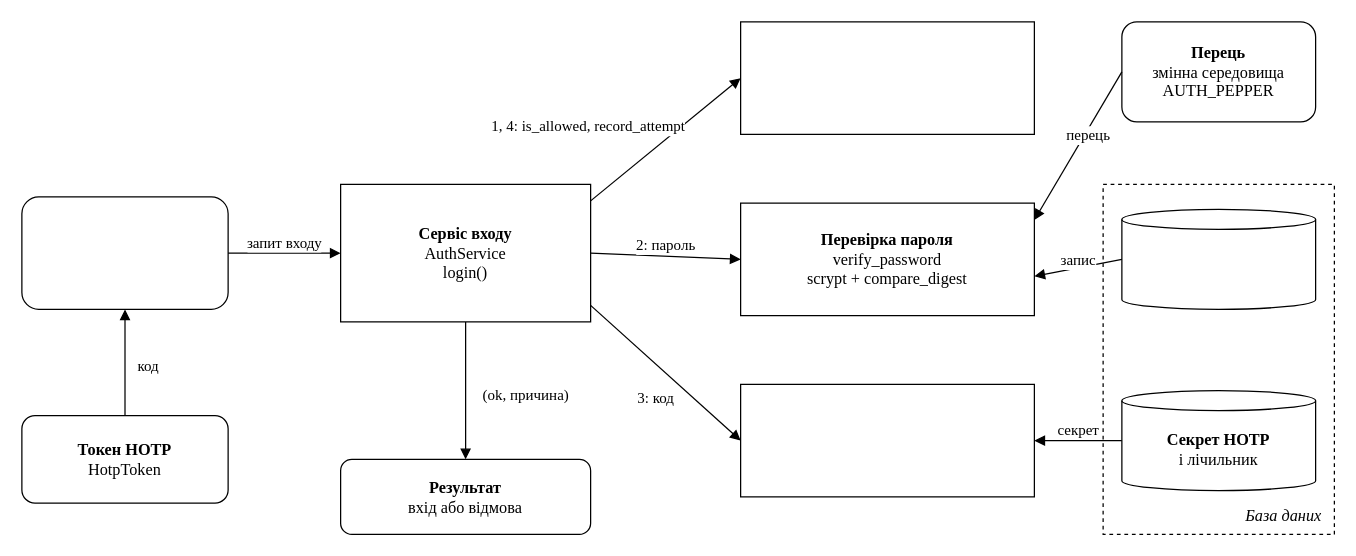
Some shapes in this 1356 by 556 pixel diagram are drawn without their labels. Here are the shapes that lost their labels. From the top down, the centre of each, then its label:
At point 886,77: "Блокування PairLockout невдачі на пару (логін, IP)".
At point 124,252: "Користувач логін, пароль, код HOTP, IP".
At point 1218,258: "Записи паролів scrypt$n,r,p$сіль$ключ".
At point 886,440: "Другий фактор HotpVerifier вікно 3 + compare_digest".
